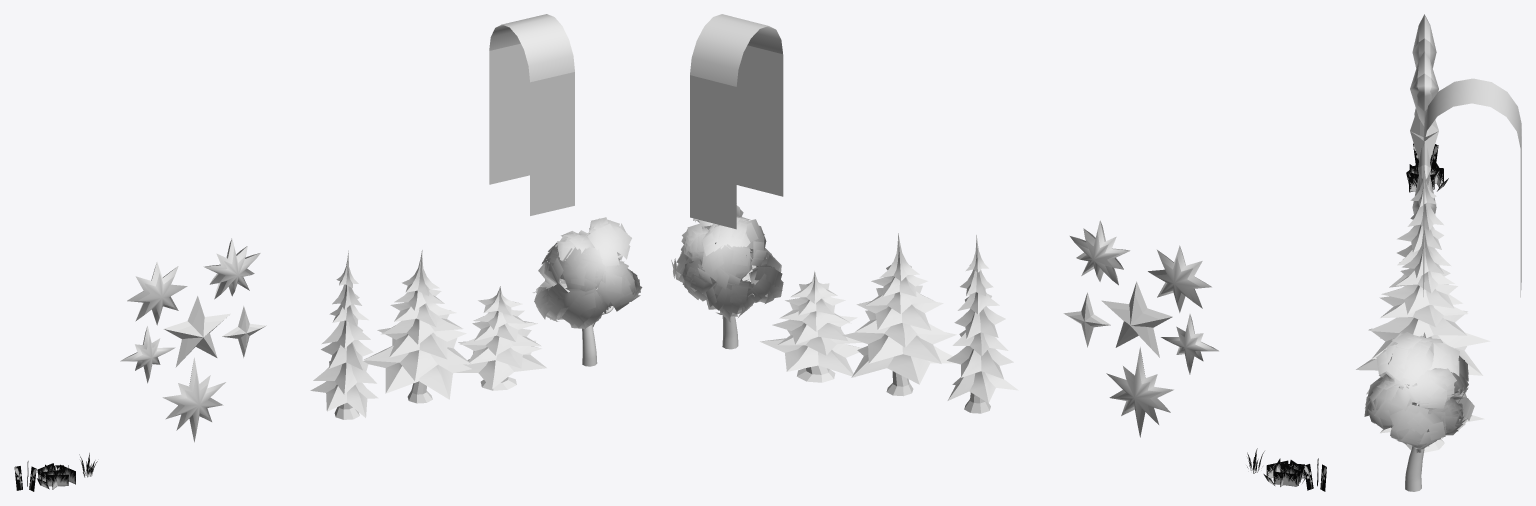
The model's file is stars.fbx.
The picture shows the model from 3 angles, left to right: view 1: azimuth 30°, elevation 25°; view 2: azimuth 150°, elevation 25°; view 3: azimuth 270°, elevation 25°; orthographic projection. The views are drawn at different scales.
Visible parts, largest first — view 1: pCylinder8, canopy, pinetree_lush, pinetree_skinny, pinetree_smaller, tenpoint_varied, fivepoint, eightpoint_basic, tenpoint_basic, eightpoint_varied, grass_short; view 2: pCylinder8, pinetree_lush, canopy, pinetree_smaller, pinetree_skinny, tenpoint_varied, fivepoint, eightpoint_basic, tenpoint_basic, eightpoint_varied, grass_short, fourpoint; view 3: canopy, pinetree_lush, pCylinder8, pinetree_skinny, tenpoint_basic, eightpoint_basic, fivepoint, treetrunk, grass_short, fourpoint, pinetree_smaller, tenpoint_varied (+1 smaller).
Part boxes in pixels (x1,y1,x2,y2): pCylinder8: (489,14,574,215); canopy: (534,217,642,328); pinetree_lush: (363,250,471,403); pinetree_skinny: (310,250,378,419); pinetree_smaller: (456,286,546,390); tenpoint_varied: (162,357,225,442); fivepoint: (164,296,230,367); eightpoint_basic: (127,262,187,325); tenpoint_basic: (203,238,260,299); eightpoint_varied: (120,326,175,383); grass_short: (37,463,75,489); pCylinder8: (690,14,783,229); pinetree_lush: (842,233,956,396); canopy: (671,205,783,322); pinetree_smaller: (760,271,862,382); pinetree_skinny: (947,235,1018,413); tenpoint_varied: (1106,347,1173,437); fivepoint: (1101,281,1172,357); eightpoint_basic: (1148,245,1211,312); tenpoint_basic: (1070,220,1130,285); eightpoint_varied: (1161,314,1218,374); grass_short: (1263,458,1305,486); fourpoint: (1063,292,1110,347); canopy: (1364,332,1474,449); pinetree_lush: (1356,227,1490,375); pCylinder8: (1423,78,1521,297); pinetree_skinny: (1380,167,1462,338); tenpoint_basic: (1410,51,1438,126); eightpoint_basic: (1412,14,1436,68); fivepoint: (1410,111,1438,160); treetrunk: (1405,402,1424,491); grass_short: (1406,162,1448,192); fourpoint: (1418,141,1431,186); pinetree_smaller: (1380,332,1484,452); tenpoint_varied: (1412,175,1436,214).
Bounding box in the file's own units: 2719 × 1398 × 551.
